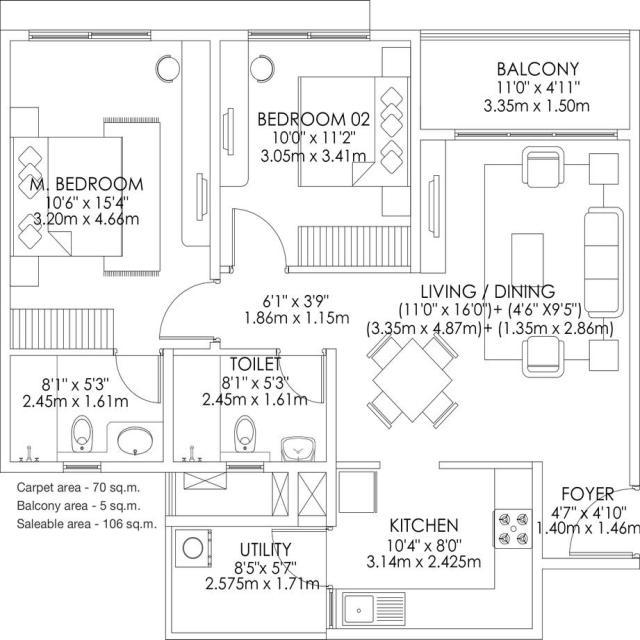Balcony-Sitout: (420, 30, 640, 140)
Bedroom: (214, 29, 421, 271)
Bedroom with Toilet: (3, 31, 216, 470)
Dining: (347, 321, 476, 440)
Enterance-Foyer: (532, 467, 640, 570)
Kitchen: (329, 465, 542, 640)
Living: (412, 132, 639, 379)
Toilet: (2, 349, 162, 472), (174, 349, 332, 468)
Utility: (165, 523, 330, 639)
